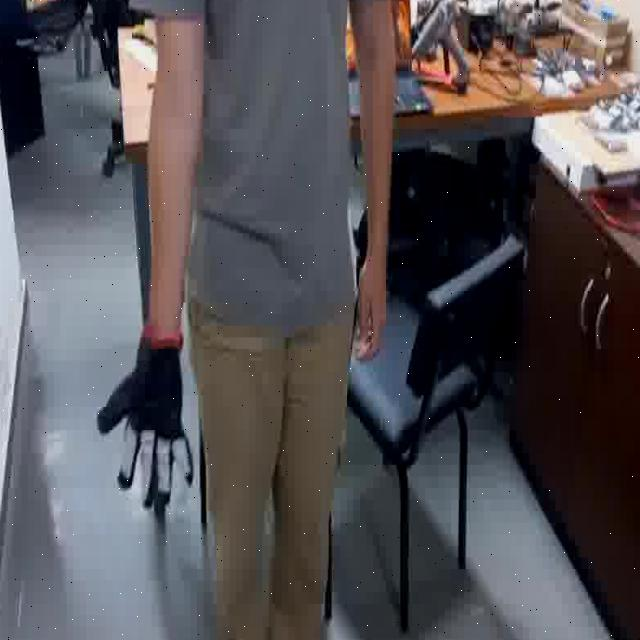Gloves: (94, 335, 199, 518)
